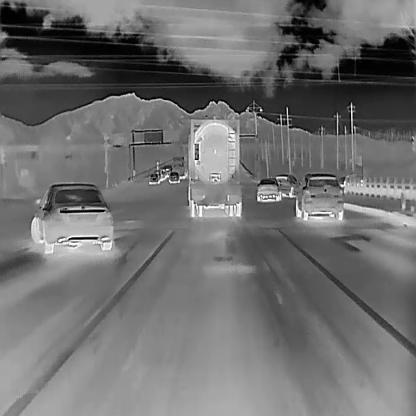car: (29, 181, 113, 254), (295, 172, 344, 219), (256, 176, 282, 201), (274, 172, 299, 198), (168, 170, 179, 182), (148, 172, 159, 184), (163, 164, 172, 176), (159, 166, 168, 178), (154, 169, 163, 180)
truck: (186, 116, 242, 218), (170, 155, 186, 178)
